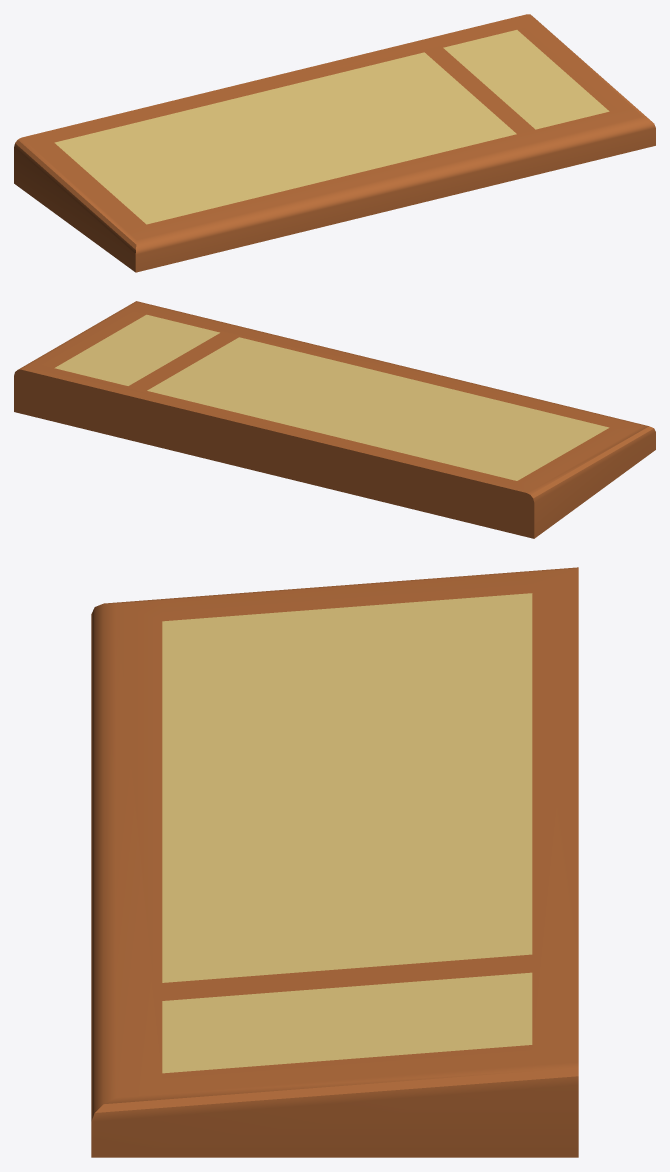
The model's file is Keyboard.fbx.
The picture shows the model from 3 angles, top to bottom: view 1: azimuth 30°, elevation 25°; view 2: azimuth 150°, elevation 25°; view 3: azimuth 270°, elevation 25°; orthographic projection. The views are drawn at different scales.
Parts seen in each view (by area): view 1: Keyboard; view 2: Keyboard; view 3: Keyboard.
Boxes of the visible parts, x1,y1,x2,y2 form: Keyboard: (14,14,655,272); Keyboard: (14,301,655,538); Keyboard: (91,567,578,1157).
Size of the model in its own units: 4.2 by 0.3403 by 1.7.
